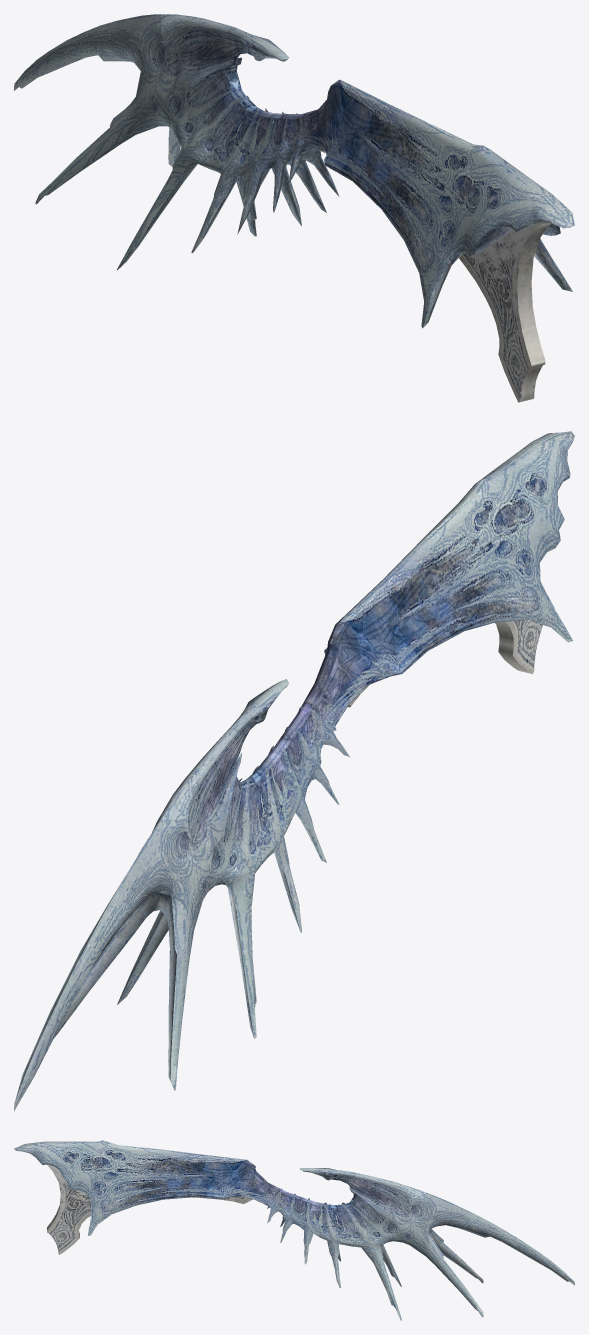
Rendered from bs_bow010.obj.
3 renders of one model, top to bottom at view 1: azimuth 30°, elevation 25°; view 2: azimuth 150°, elevation 25°; view 3: azimuth 270°, elevation 25°, orthographic. The views are drawn at different scales.
Parts seen in each view (by area): view 1: bs_bow010_002_LOD_65535; view 2: bs_bow010_002_LOD_65535; view 3: bs_bow010_002_LOD_65535.
Boxes of the visible parts, left/top/right/bottom form: bs_bow010_002_LOD_65535: left=14, top=14, right=574, bottom=402; bs_bow010_002_LOD_65535: left=14, top=431, right=574, bottom=1110; bs_bow010_002_LOD_65535: left=14, top=1140, right=574, bottom=1320.
Size of what is drawn, in the model's own units: 20.71 by 42.81 by 133.
